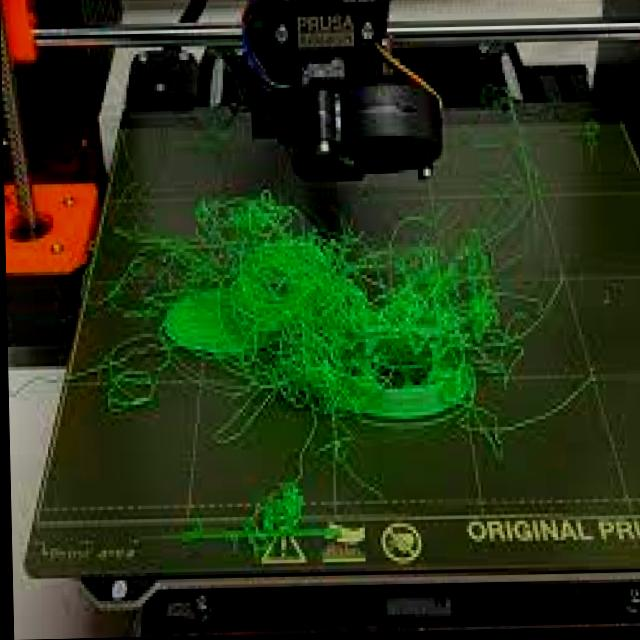spaghetti: (158, 205, 519, 428), (238, 483, 332, 564)
